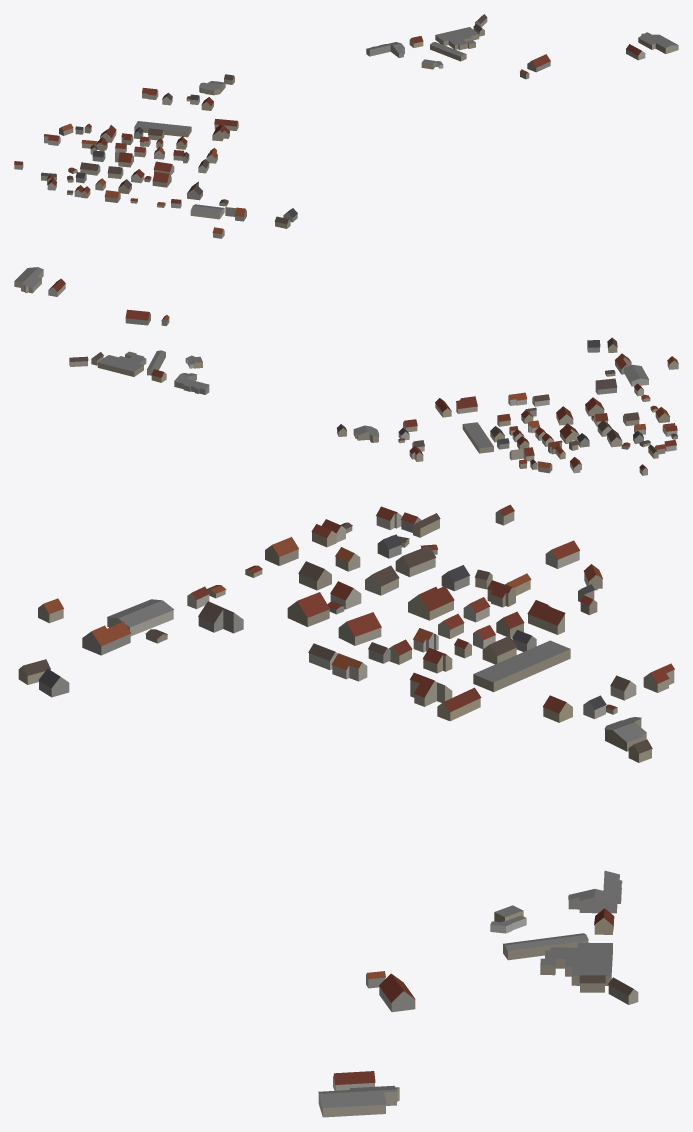
3 views of the same model, one above another, from view 1: azimuth 30°, elevation 25°; view 2: azimuth 150°, elevation 25°; view 3: azimuth 270°, elevation 25° (orthographic). The views are drawn at different scales.
Visible parts, largest first — view 1: buildings; view 2: buildings; view 3: buildings.
Boxes of the visible parts, x1=… form: buildings: x1=14, y1=14, x2=678, y2=238; buildings: x1=14, y1=267, x2=678, y2=475; buildings: x1=18, y1=504, x2=674, y2=1117.
Size of the model in its own units: 800 by 23.18 by 368.
